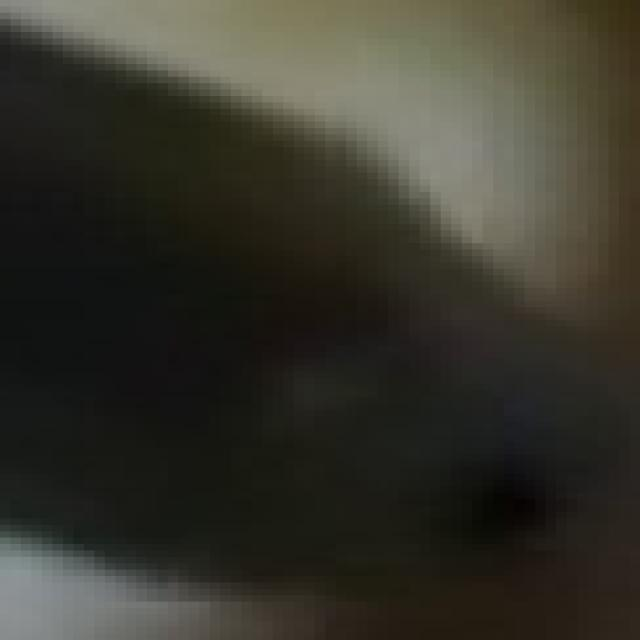fish: (10, 0, 640, 634)
